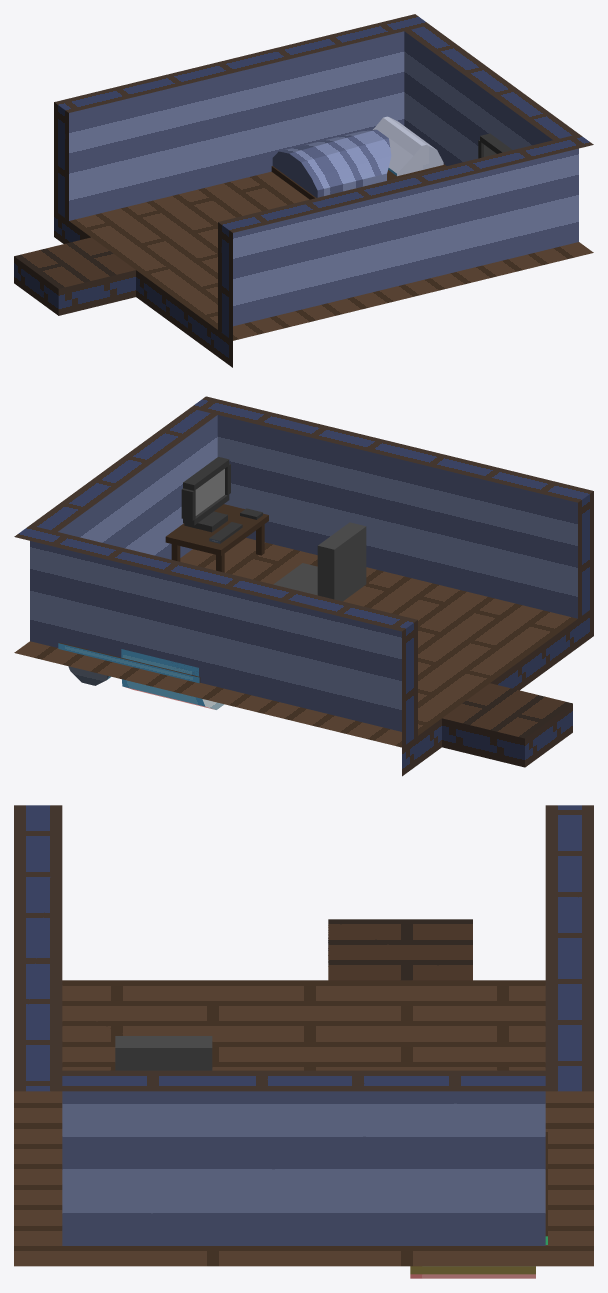
File: Pc_Room.gltf
The picture shows the model from 3 angles, top to bottom: view 1: azimuth 30°, elevation 25°; view 2: azimuth 150°, elevation 25°; view 3: azimuth 270°, elevation 25°; orthographic projection. The views are drawn at different scales.
Parts seen in each view (by area): view 1: cuboid-col (×3), wall-col, cylinder (×2), enterance-col, cuboid; view 2: cuboid-col (×5), wall-col, enterance-col, cuboid (×4), cylinder; view 3: cuboid-col (×4), wall-col, enterance-col, cylinder.
Part boxes in pixels (bbox=[...]): cuboid-col (×3): bbox=[54, 25, 593, 367]; wall-col: bbox=[54, 14, 429, 220]; cylinder (×2): bbox=[272, 116, 443, 197]; enterance-col: bbox=[14, 237, 135, 315]; cuboid: bbox=[271, 164, 446, 199]; cuboid-col (×5): bbox=[14, 396, 593, 776]; wall-col: bbox=[14, 525, 417, 747]; enterance-col: bbox=[442, 683, 572, 767]; cuboid (×4): bbox=[58, 457, 317, 683]; cylinder: bbox=[121, 649, 223, 709]; cuboid-col (×4): bbox=[14, 805, 593, 1266]; wall-col: bbox=[545, 805, 593, 1091]; enterance-col: bbox=[328, 919, 472, 980]; cylinder: bbox=[410, 1266, 535, 1278].
Size of what is drawn, in the model's own units: 1.06 by 0.3375 by 0.75.
2 materials, 2 textured.
